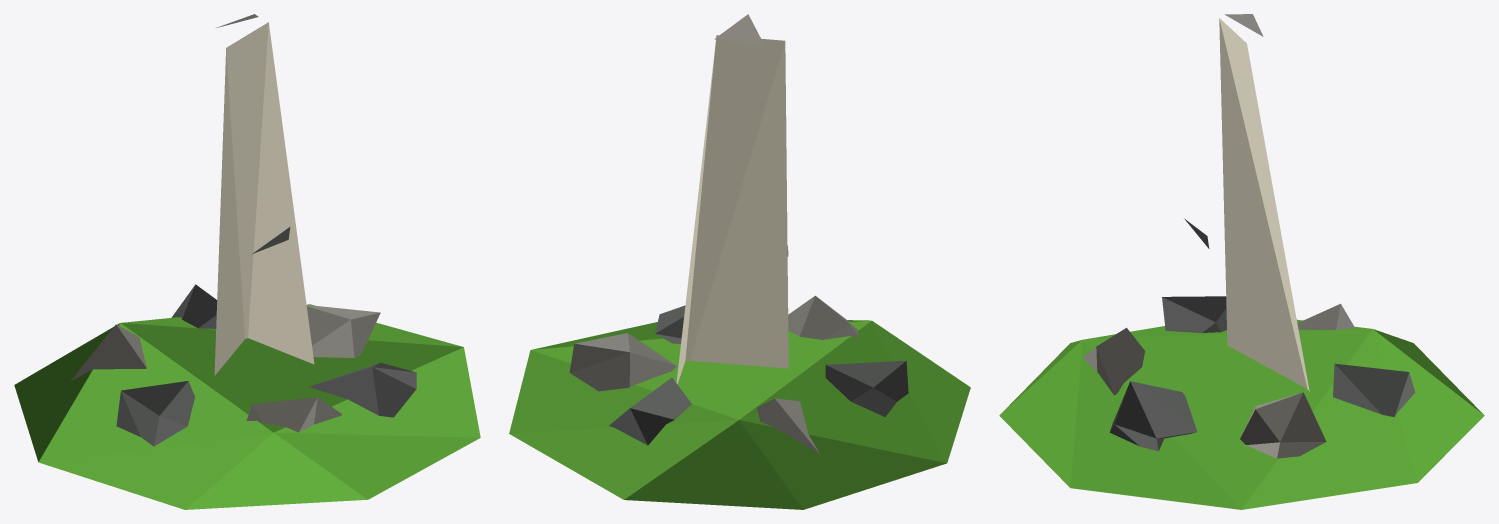
File: three_farthing_stone_lod2.glb
3 views of the same model, side by side, from view 1: azimuth 30°, elevation 25°; view 2: azimuth 150°, elevation 25°; view 3: azimuth 270°, elevation 25° (orthographic). The views are drawn at different scales.
Parts seen in each view (by area): view 1: three_farthing_stone_lod2; view 2: three_farthing_stone_lod2; view 3: three_farthing_stone_lod2.
Boxes of the visible parts, x1=… form: three_farthing_stone_lod2: x1=14, y1=14, x2=480, y2=509; three_farthing_stone_lod2: x1=509, y1=14, x2=970, y2=509; three_farthing_stone_lod2: x1=999, y1=14, x2=1484, y2=509.
Size of the model in its own units: 3.86 by 3.49 by 3.8.
